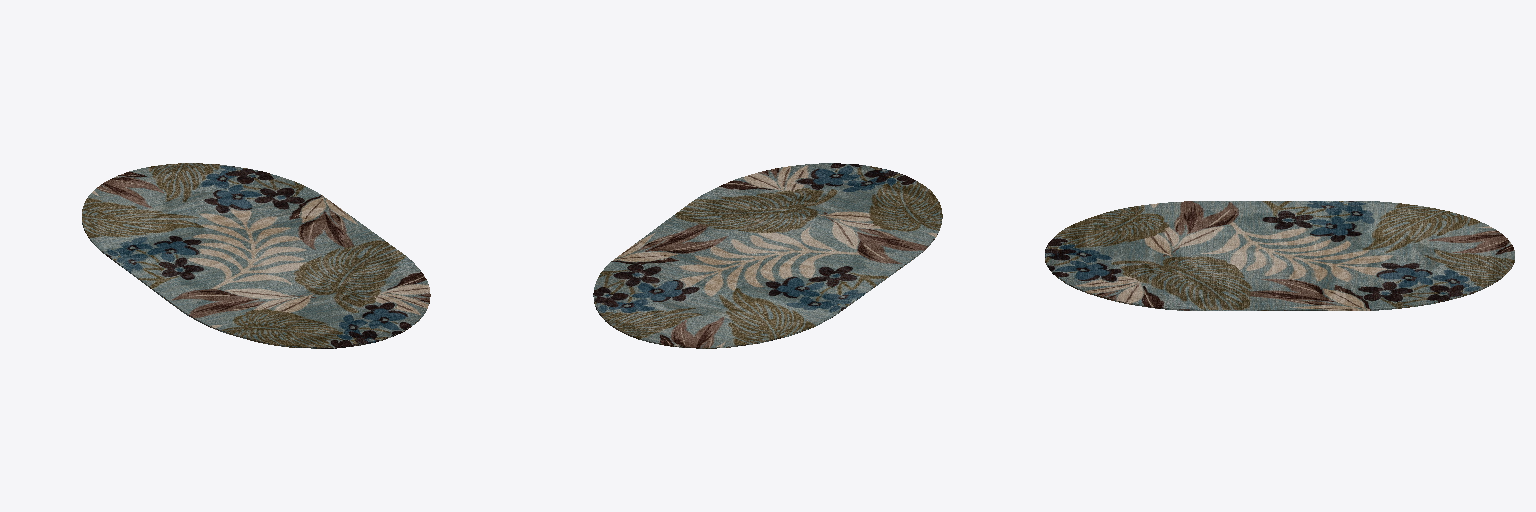
3 renders of one model, left to right at view 1: azimuth 30°, elevation 25°; view 2: azimuth 150°, elevation 25°; view 3: azimuth 270°, elevation 25°, orthographic.
Visible parts, largest first — view 1: Fun_with_Phonics_Oval_FLAT_Untitled.012; view 2: Fun_with_Phonics_Oval_FLAT_Untitled.012; view 3: Fun_with_Phonics_Oval_FLAT_Untitled.012.
Part boxes in pixels (x1,y1,x2,y2): Fun_with_Phonics_Oval_FLAT_Untitled.012: (82,163,430,348); Fun_with_Phonics_Oval_FLAT_Untitled.012: (593,163,942,348); Fun_with_Phonics_Oval_FLAT_Untitled.012: (1045,201,1514,310).
Bounding box in the file's own units: 6.28 × 0.0576 × 11.45.
1 materials, 1 textured.